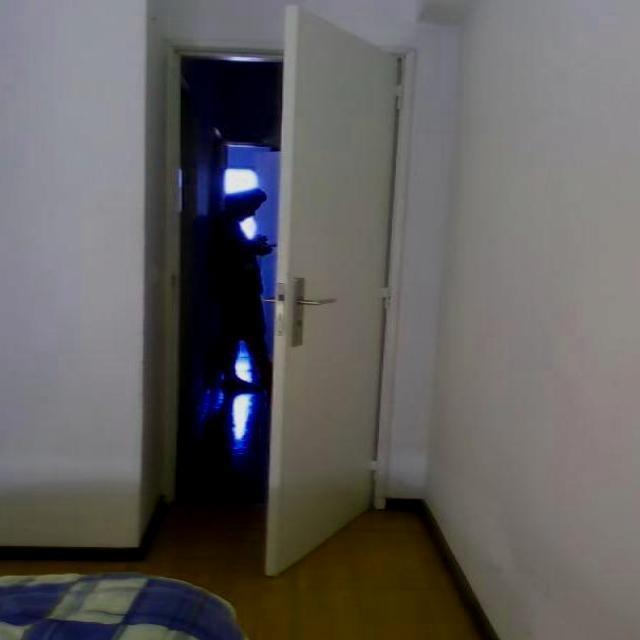door: (263, 4, 403, 576)
